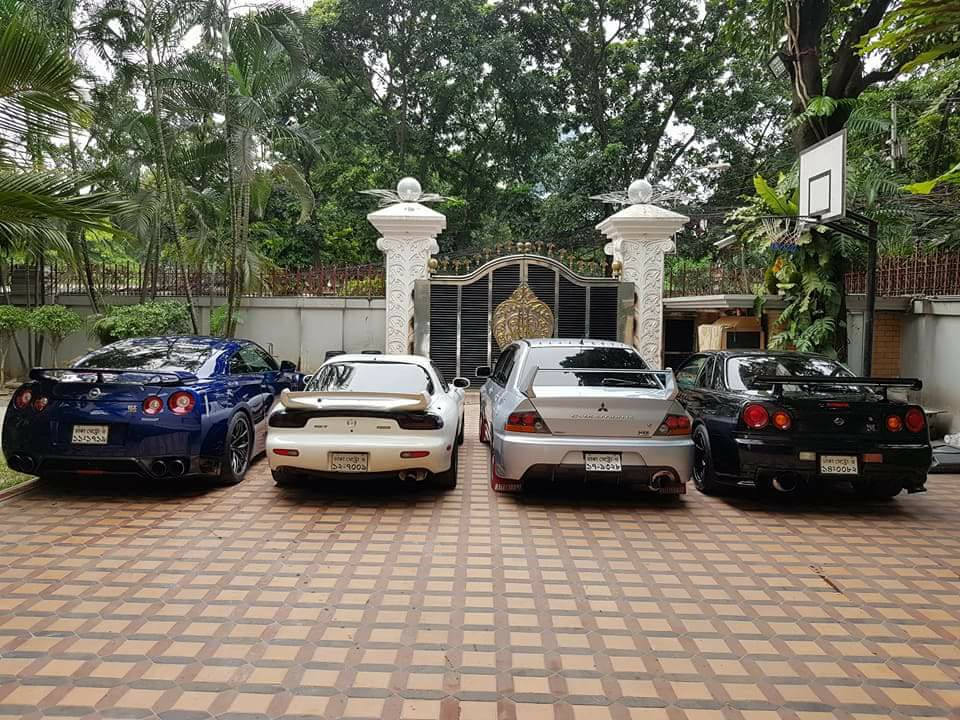registration_plate: (330, 451, 369, 473), (71, 424, 109, 444), (820, 455, 858, 474), (585, 453, 622, 472)
